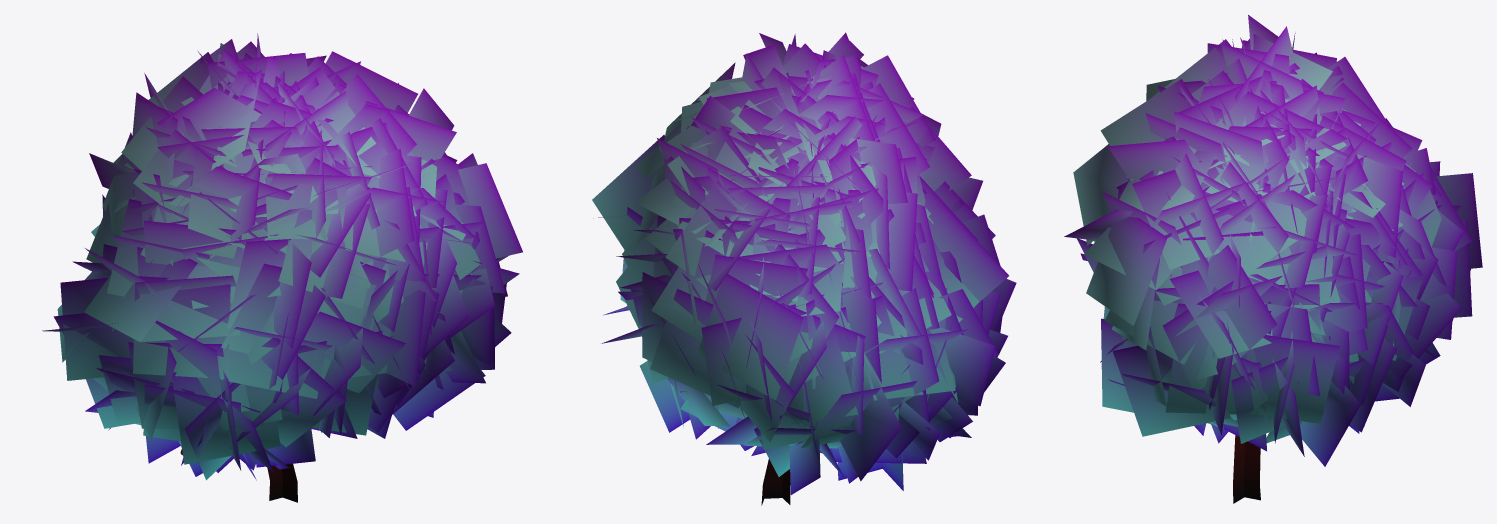
File: SM_Env_Bush_01.glb
3 renders of one model, left to right at view 1: azimuth 30°, elevation 25°; view 2: azimuth 150°, elevation 25°; view 3: azimuth 270°, elevation 25°, orthographic. The views are drawn at different scales.
Visible parts, largest first — view 1: SM_Env_Bush_01_LOD0; view 2: SM_Env_Bush_01_LOD0; view 3: SM_Env_Bush_01_LOD0.
Boxes of the visible parts, left/top/right/bottom form: SM_Env_Bush_01_LOD0: left=42, top=33, right=522, bottom=502; SM_Env_Bush_01_LOD0: left=592, top=32, right=1016, bottom=505; SM_Env_Bush_01_LOD0: left=1064, top=15, right=1482, bottom=503.
Size of what is drawn, in the model's own units: 2.68 by 2.88 by 2.44.
